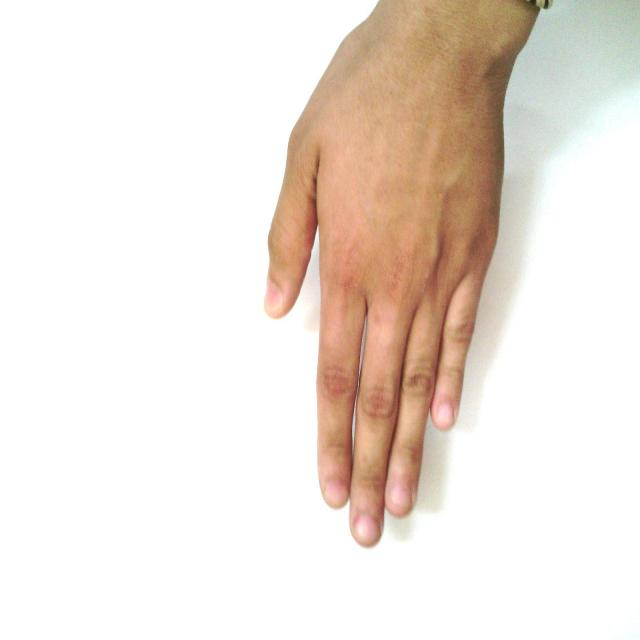others: (247, 0, 575, 548)
